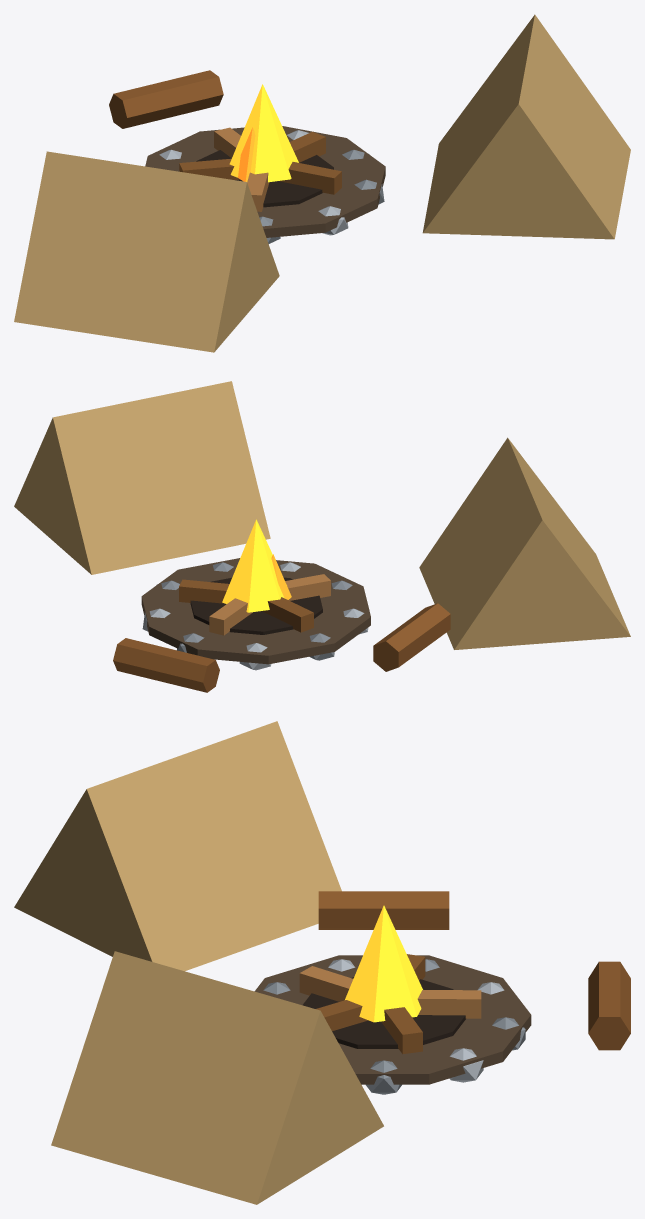
File: townhall_fogueira.glb
The picture shows the model from 3 angles, top to bottom: view 1: azimuth 30°, elevation 25°; view 2: azimuth 150°, elevation 25°; view 3: azimuth 270°, elevation 25°; orthographic projection. The views are drawn at different scales.
Visible parts, largest first — view 1: pano, terra_escura, tronco.001, fogo, madeira_escura.004, cinzas, madeira.001, pedra.003, pedra_escura.002, fogo_vivo; view 2: pano, terra_escura, tronco.001, fogo, madeira_escura.004, cinzas, madeira.001, pedra_escura.002, pedra.003; view 3: pano, terra_escura, tronco.001, fogo, madeira.001, cinzas, madeira_escura.004, pedra_escura.002, pedra.003.
Boxes of the visible parts, x1,y1,x2,y2 form: pano: (14,14,630,352); terra_escura: (145,126,385,237); tronco.001: (109,70,223,128); fogo: (229,84,298,182); madeira_escura.004: (179,131,341,194); cinzas: (196,150,333,207); madeira.001: (214,127,269,211); pedra.003: (159,130,348,235); pedra_escura.002: (259,149,384,243); fogo_vivo: (238,127,255,181); pano: (14,381,630,649); terra_escura: (141,558,370,664); tronco.001: (113,603,450,692); fogo: (222,519,284,612); madeira_escura.004: (179,579,313,632); cinzas: (190,577,322,634); madeira.001: (209,574,330,635); pedra_escura.002: (157,562,352,660); pedra.003: (142,562,368,670); pano: (14,721,383,1204); terra_escura: (254,955,531,1084); tronco.001: (318,891,630,1050); fogo: (345,905,422,1022); madeira.001: (299,966,481,1018); cinzas: (302,977,465,1048); madeira_escura.004: (316,954,425,1054); pedra_escura.002: (263,959,525,1094); pedra.003: (328,959,504,1082).
Bounding box in the file's own units: 3.64 × 0.8 × 2.6.
